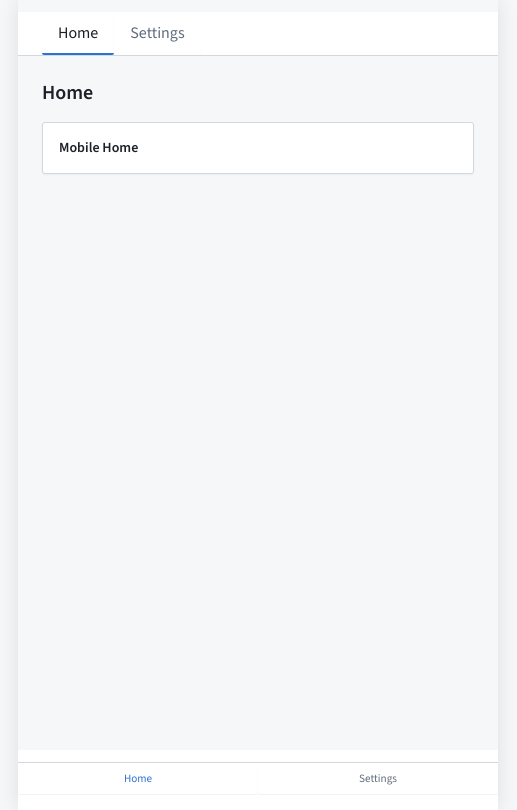
Test: MobileAppLauncher › navigates between pages on nav click
The image size is (517, 810).
Click the 2nd button "Settings": (378,778) [258,763,498,794]
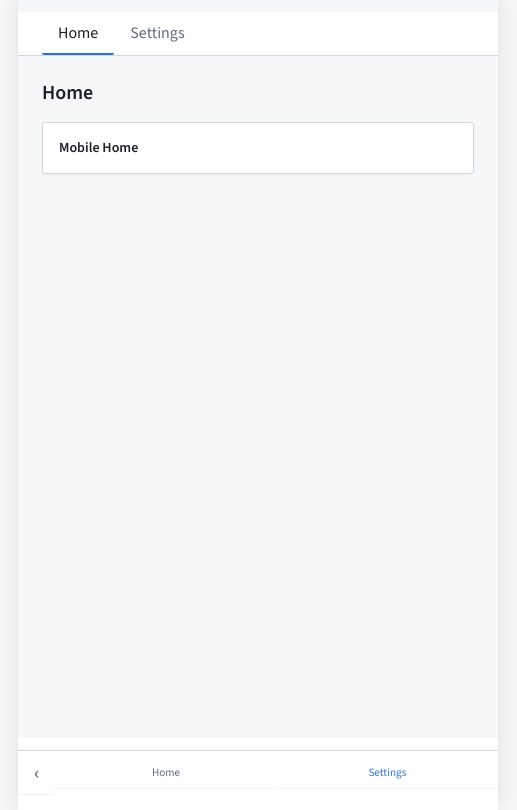
Now the button with class "ed-mobile__nav-item--active" is shown, box [277,757,498,788]
